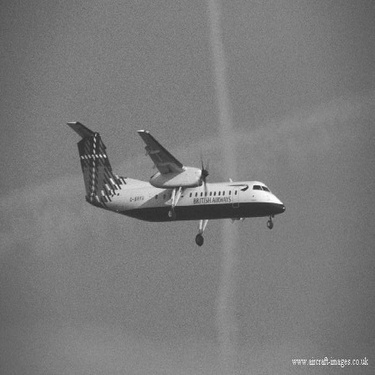airplane: (51, 96, 302, 260)
